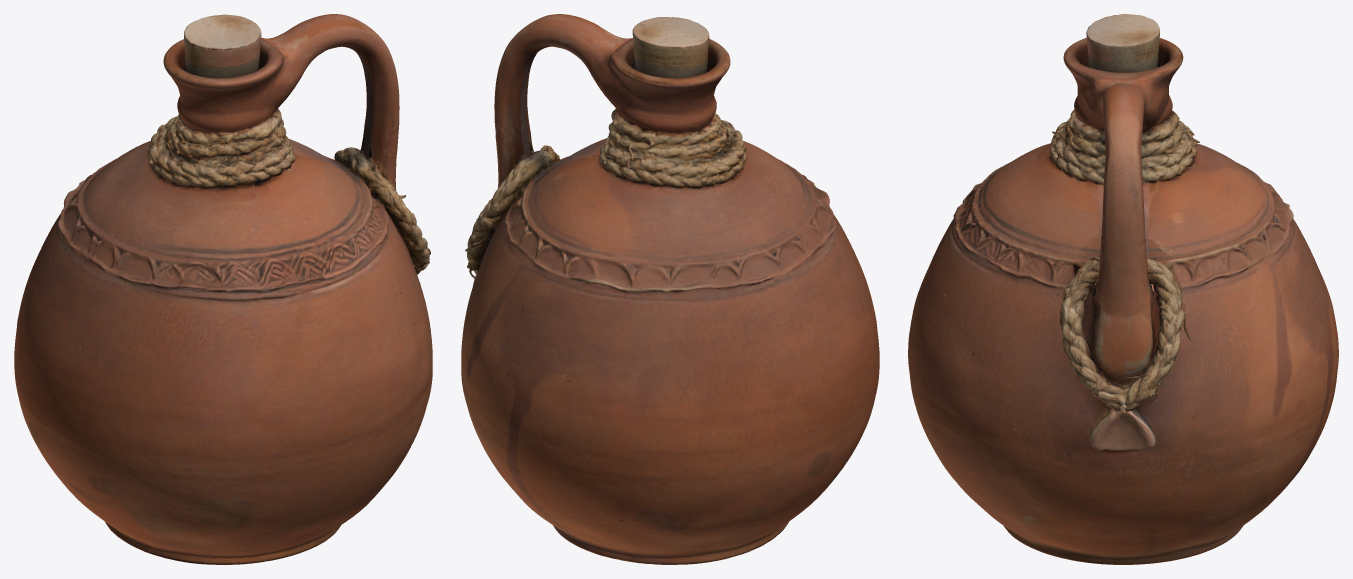
File: o48_toprak_testi.glb
3 renders of one model, left to right at view 1: azimuth 30°, elevation 25°; view 2: azimuth 150°, elevation 25°; view 3: azimuth 270°, elevation 25°, orthographic.
Bounding box in the file's own units: 1.54 × 1.9 × 1.53.
Materials: 1 (1 with a texture image).
